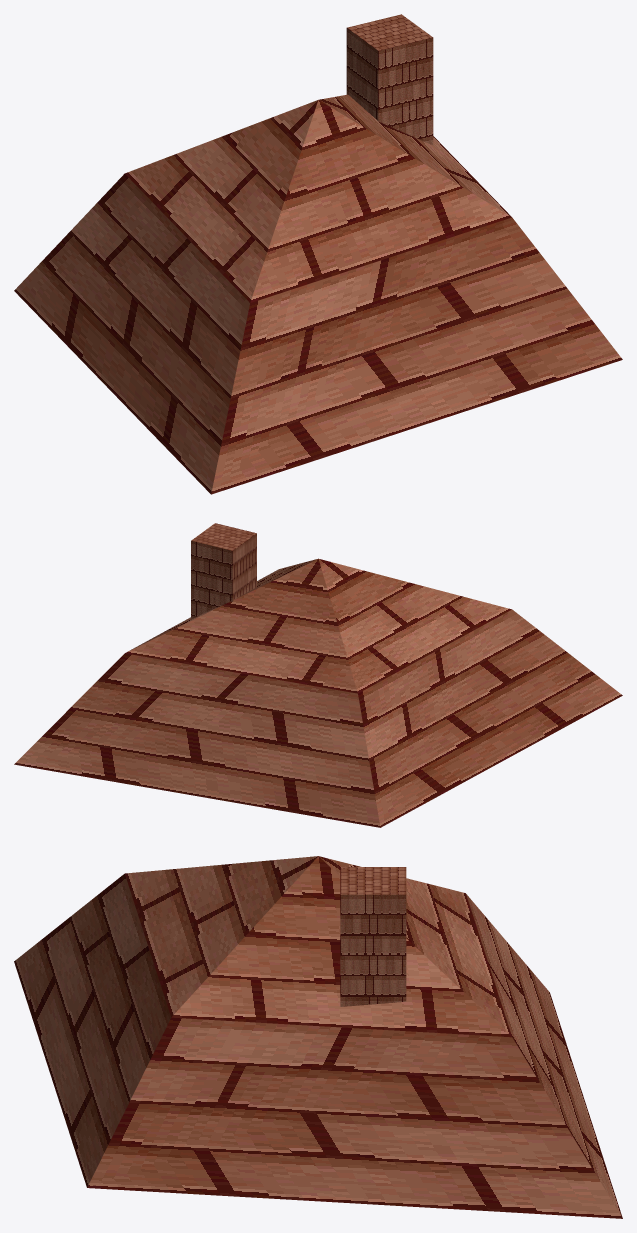
Rendered from telhado_12_casa_comum.glb.
3 views of the same model, one above another, from view 1: azimuth 30°, elevation 25°; view 2: azimuth 150°, elevation 25°; view 3: azimuth 270°, elevation 25° (orthographic). The views are drawn at different scales.
Parts seen in each view (by area): view 1: telhado_12_casa_comum; view 2: telhado_12_casa_comum; view 3: telhado_12_casa_comum.
Part boxes in pixels (x1=…): telhado_12_casa_comum: x1=14, y1=14, x2=622, y2=494; telhado_12_casa_comum: x1=14, y1=523, x2=622, y2=827; telhado_12_casa_comum: x1=14, y1=856, x2=622, y2=1218.
Bounding box in the file's own units: 3.89 × 1.83 × 3.89.
Materials: 1 (1 with a texture image).
